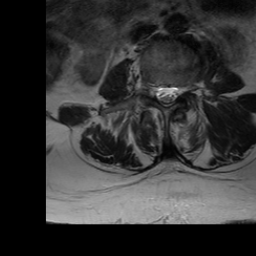CCS_normal: (163, 77, 170, 112)
LFS_normal: (181, 75, 189, 100)
LLS_normal: (171, 81, 180, 107)
RFS_normal: (145, 73, 156, 104)
RLS_normal: (155, 78, 163, 107)
